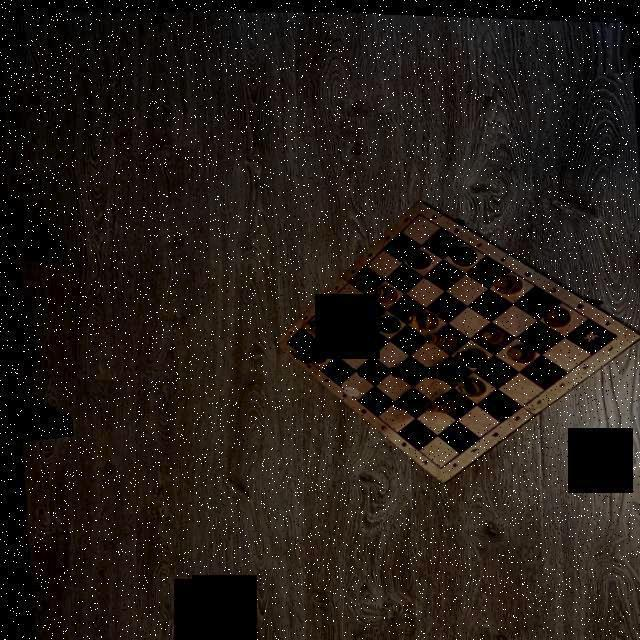chess-table-corners: (610, 328, 616, 334), (281, 338, 285, 342), (415, 209, 419, 213), (433, 463, 438, 466)
